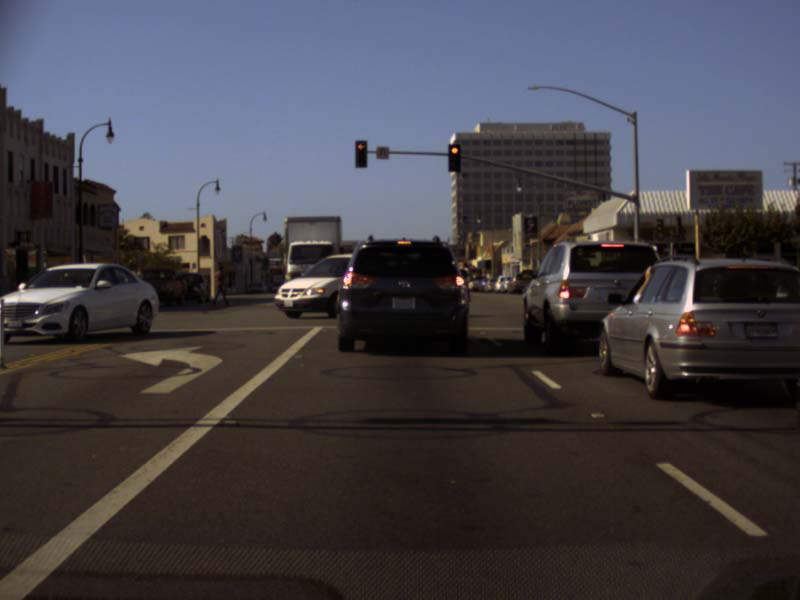Red: (448, 145, 460, 171), (354, 140, 365, 167)
